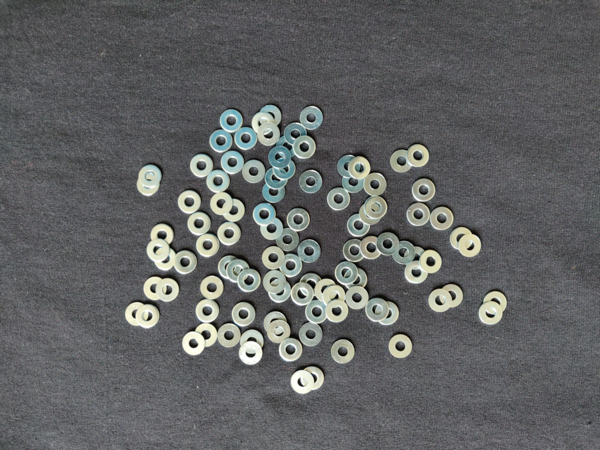circle: (389, 333, 415, 361), (289, 370, 315, 397), (149, 222, 175, 249), (135, 304, 161, 331), (125, 302, 150, 330), (430, 205, 456, 231), (390, 149, 416, 175), (364, 297, 389, 324), (300, 104, 325, 131), (218, 254, 243, 281), (143, 276, 170, 301), (376, 301, 400, 329), (481, 291, 507, 316), (323, 283, 348, 309), (188, 152, 214, 177), (259, 245, 284, 271), (278, 338, 303, 364), (300, 366, 326, 391), (262, 310, 287, 336), (238, 343, 264, 368), (217, 324, 242, 350), (199, 275, 225, 300), (237, 268, 262, 294), (410, 177, 437, 201), (335, 260, 359, 287), (332, 338, 356, 365), (253, 200, 277, 227), (187, 212, 214, 236), (300, 321, 323, 349), (405, 260, 430, 285), (404, 246, 429, 271), (345, 285, 370, 310), (406, 143, 431, 168), (325, 300, 350, 325), (231, 302, 256, 327), (239, 329, 264, 354), (152, 248, 177, 273), (439, 284, 465, 308), (283, 122, 309, 146), (260, 217, 284, 243), (279, 253, 303, 279), (194, 234, 220, 258), (341, 171, 368, 194), (338, 152, 362, 177), (299, 170, 323, 195), (292, 136, 317, 160), (272, 157, 297, 181), (242, 160, 266, 185), (222, 197, 246, 222), (287, 207, 311, 232), (297, 240, 322, 264), (277, 228, 302, 252), (290, 282, 315, 306), (300, 273, 324, 298), (194, 323, 219, 347), (158, 276, 180, 303), (407, 203, 431, 227), (348, 156, 372, 180), (327, 187, 351, 211), (256, 123, 280, 147), (264, 270, 288, 294), (268, 281, 292, 305), (181, 332, 205, 356), (195, 299, 219, 323), (138, 163, 162, 187), (359, 202, 382, 227), (251, 112, 276, 135), (219, 110, 244, 133), (221, 150, 244, 175), (210, 191, 233, 216), (479, 302, 505, 324), (344, 269, 370, 291), (264, 167, 290, 189), (257, 104, 283, 126), (343, 239, 366, 263), (363, 173, 387, 196), (364, 196, 388, 219), (277, 134, 300, 158), (235, 127, 258, 151), (210, 129, 233, 153), (268, 320, 291, 344), (227, 259, 250, 283), (178, 191, 201, 215), (217, 223, 241, 246), (174, 251, 197, 275), (146, 239, 169, 263), (428, 290, 453, 312), (267, 147, 293, 168), (315, 278, 338, 301), (207, 170, 230, 193), (420, 249, 442, 273), (378, 232, 400, 256), (347, 213, 369, 237), (136, 175, 160, 197), (305, 302, 330, 323), (459, 234, 482, 256), (393, 241, 416, 263), (450, 228, 474, 249), (262, 182, 286, 203), (362, 236, 381, 260)
